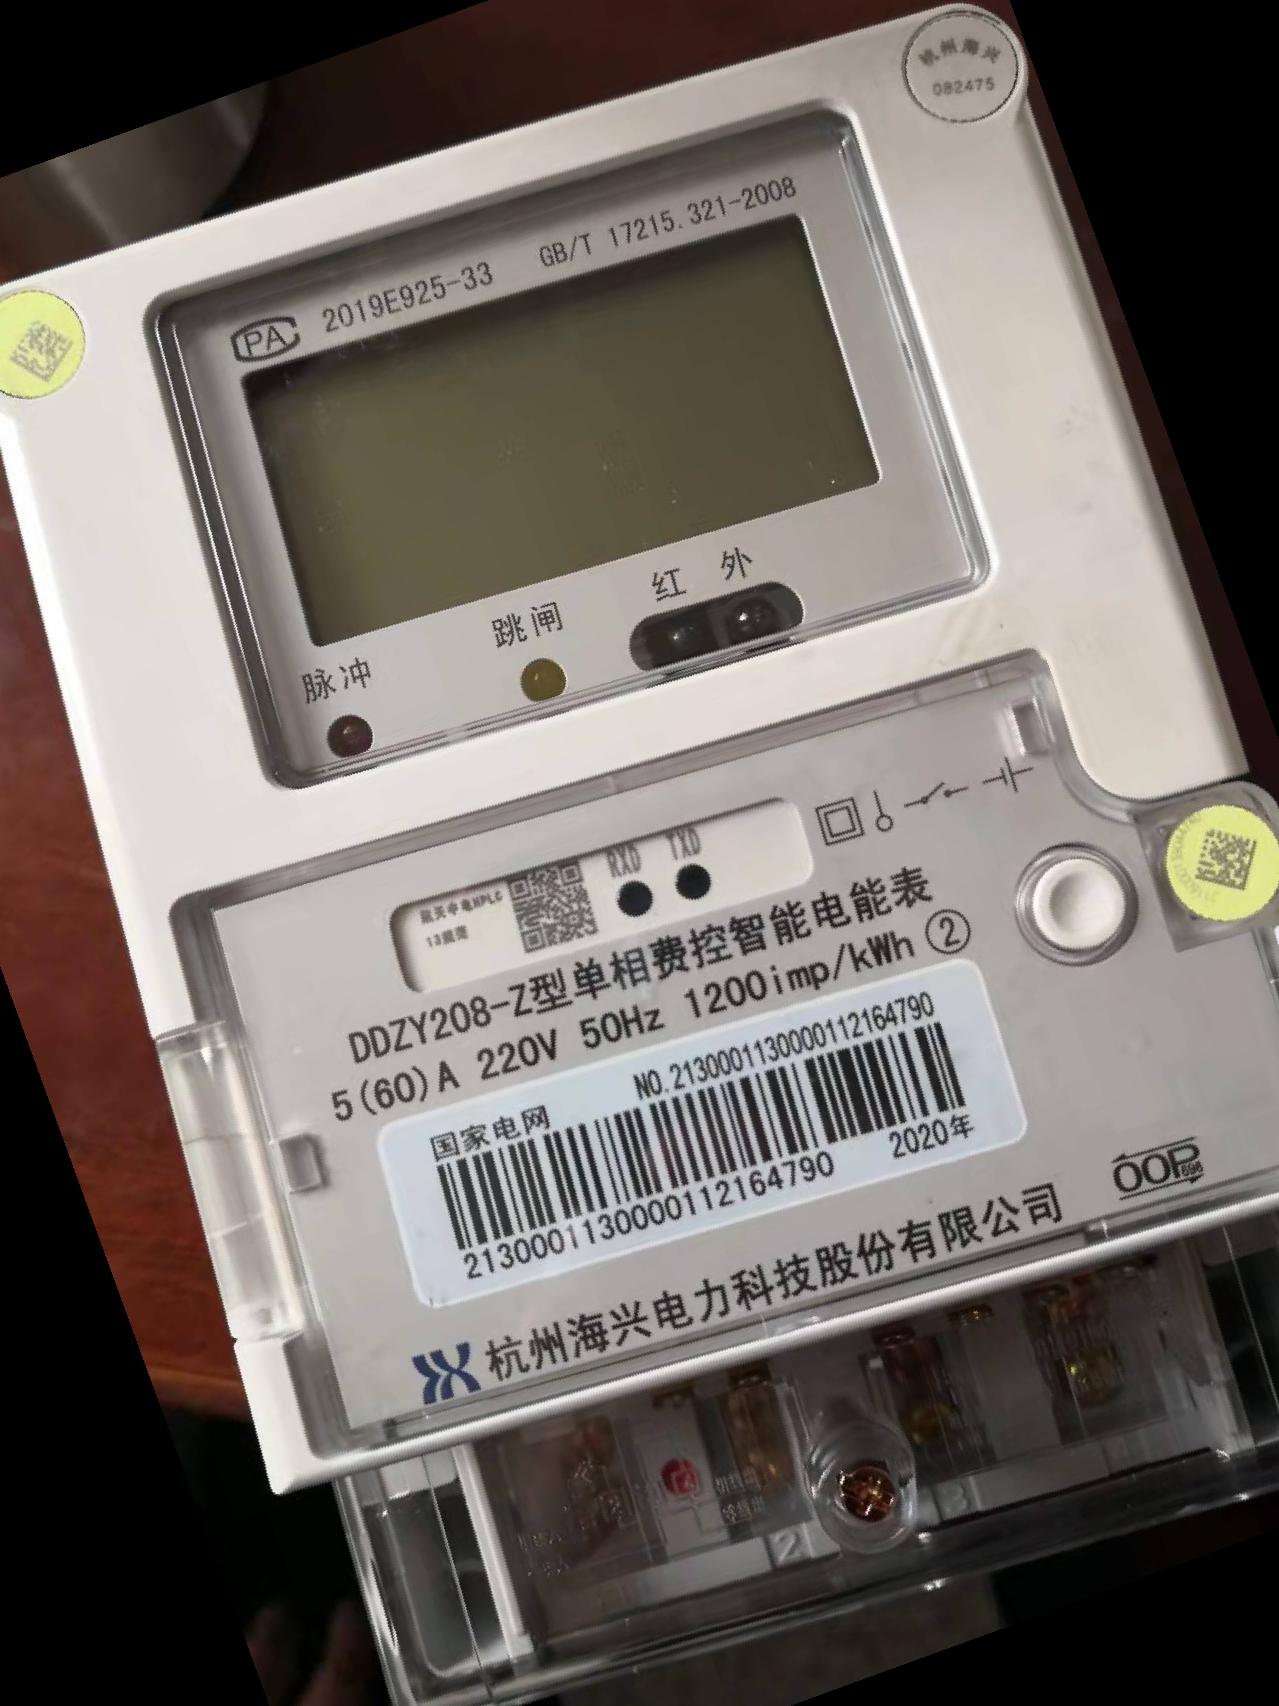digital: (3, 12, 1266, 1488)
